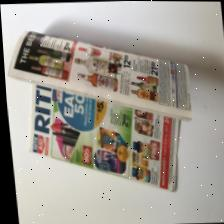paper: (0, 8, 201, 210)
